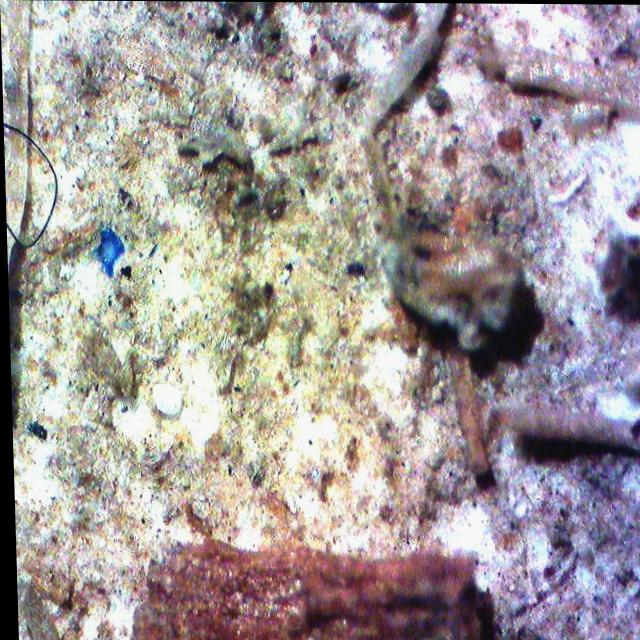microplastic: (3, 122, 56, 249), (94, 228, 124, 281)
